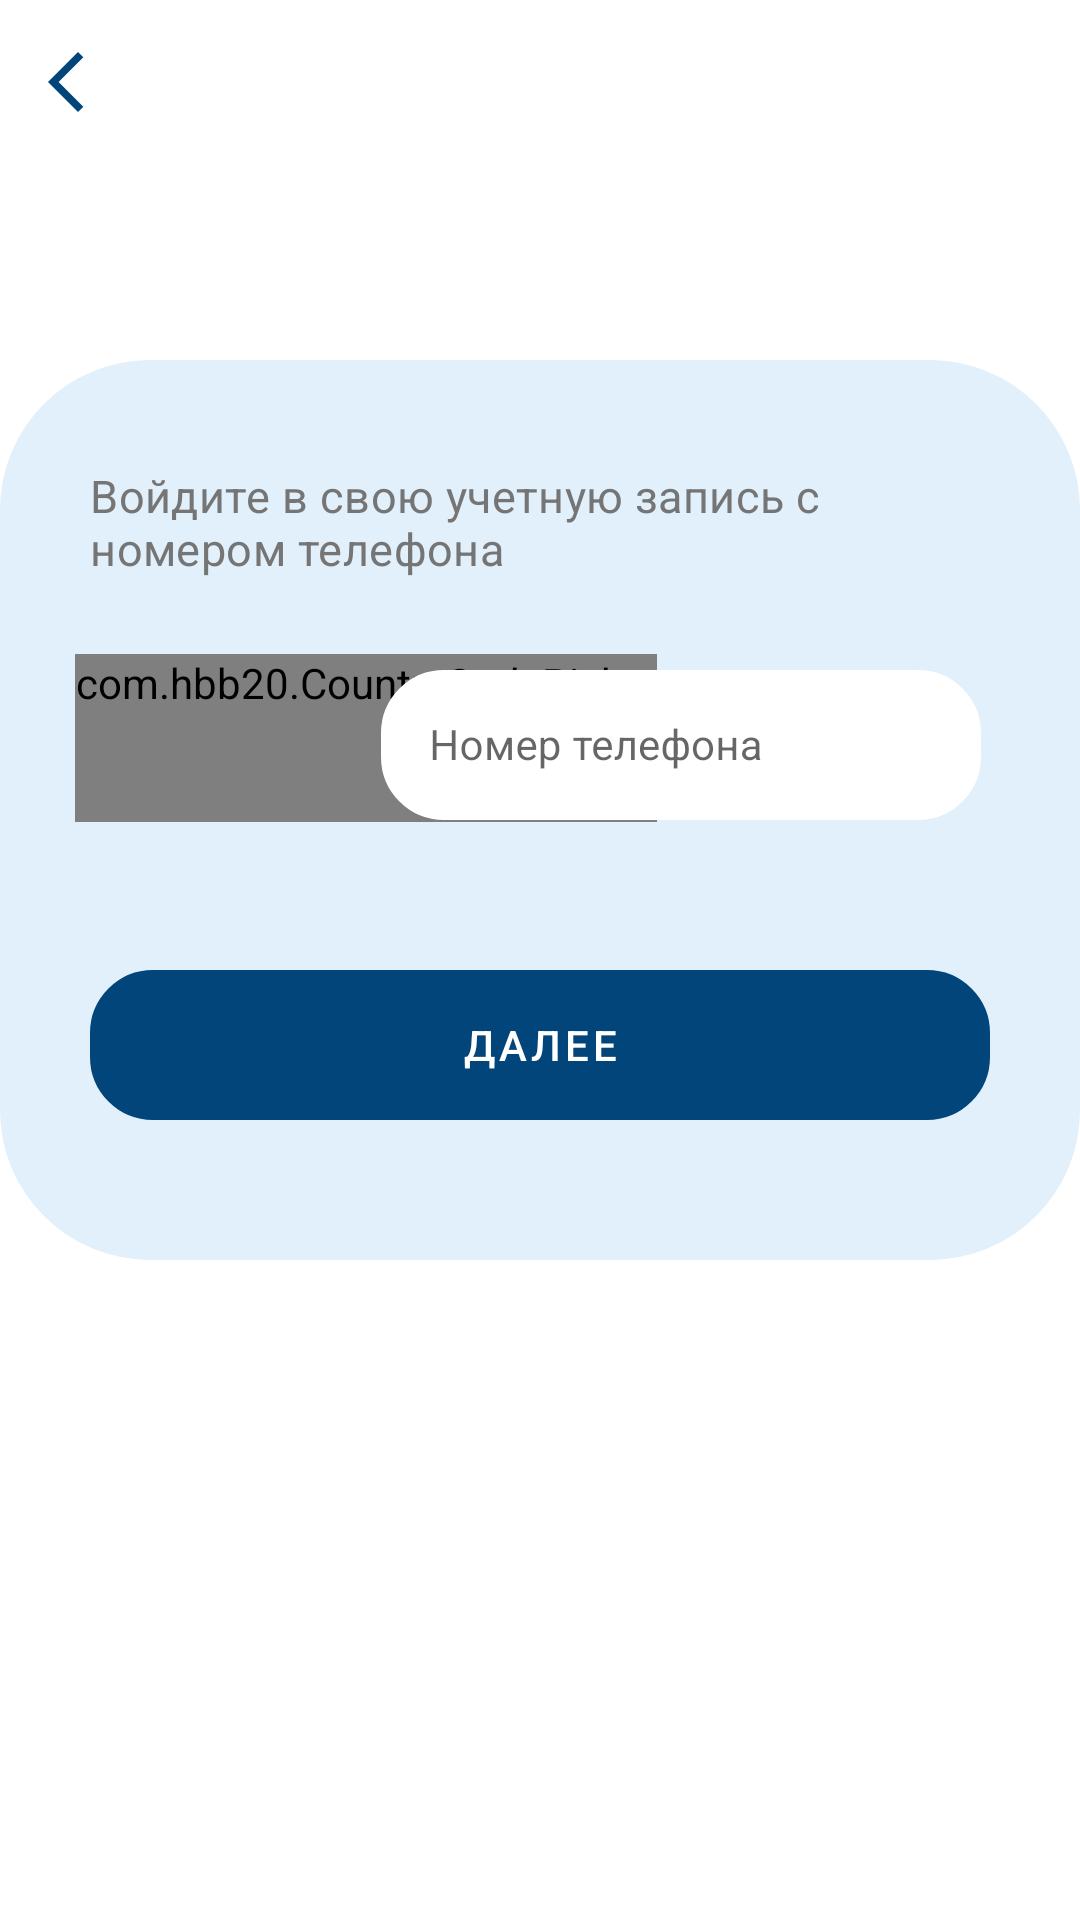

Icons on this 1080×1920 Android screen, each with the point to tap as point (x, y):
back: point (65, 82)
